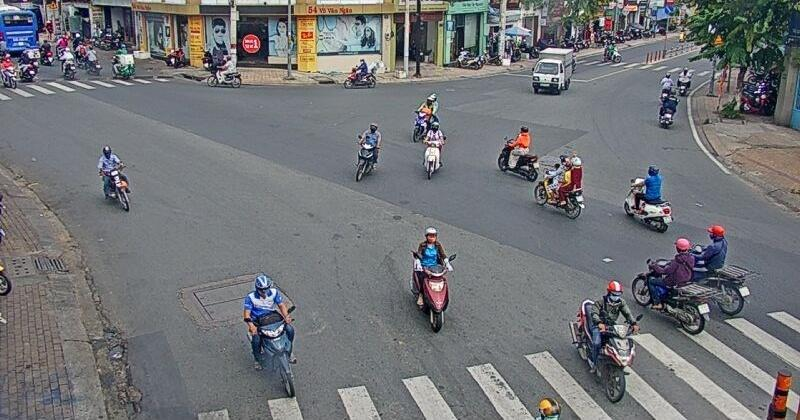xe may: (570, 281, 643, 403), (630, 237, 710, 335), (243, 275, 296, 397), (689, 225, 748, 314), (412, 227, 456, 332), (534, 153, 586, 220), (622, 164, 672, 233), (497, 125, 539, 181), (97, 145, 130, 211), (355, 122, 381, 181), (423, 121, 446, 178), (412, 93, 438, 143)
xe tai: (531, 46, 574, 94)
